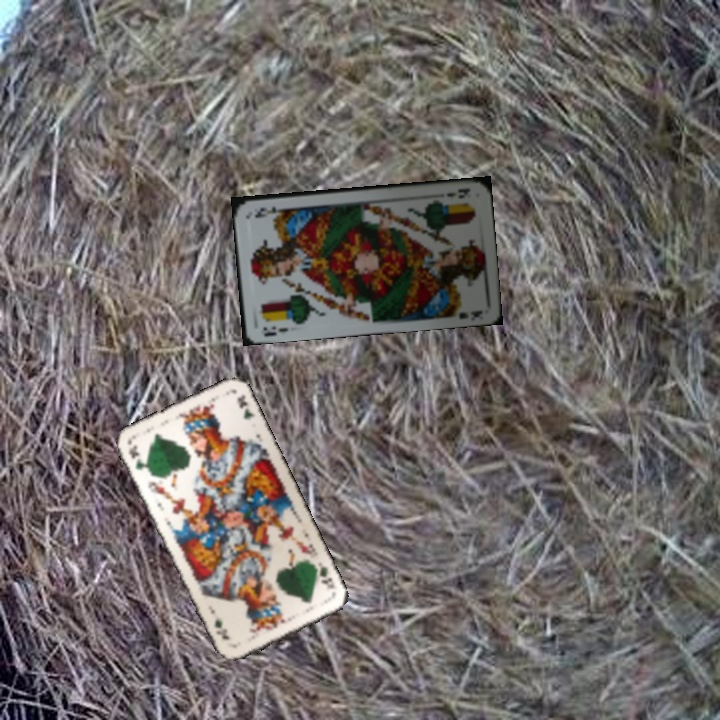EK: (259, 322, 291, 339), (442, 184, 472, 201)
GK: (124, 441, 152, 476), (310, 558, 337, 592)
